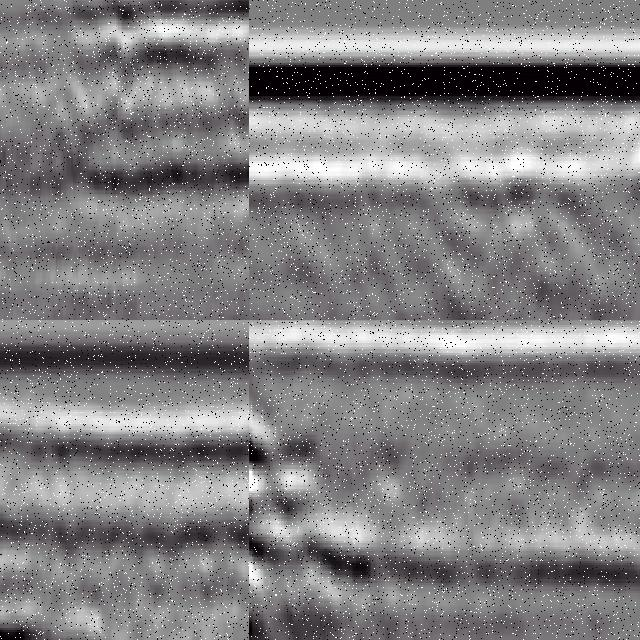loose: (361, 147, 640, 321), (56, 1, 250, 200), (250, 388, 381, 606), (1, 496, 110, 640)
